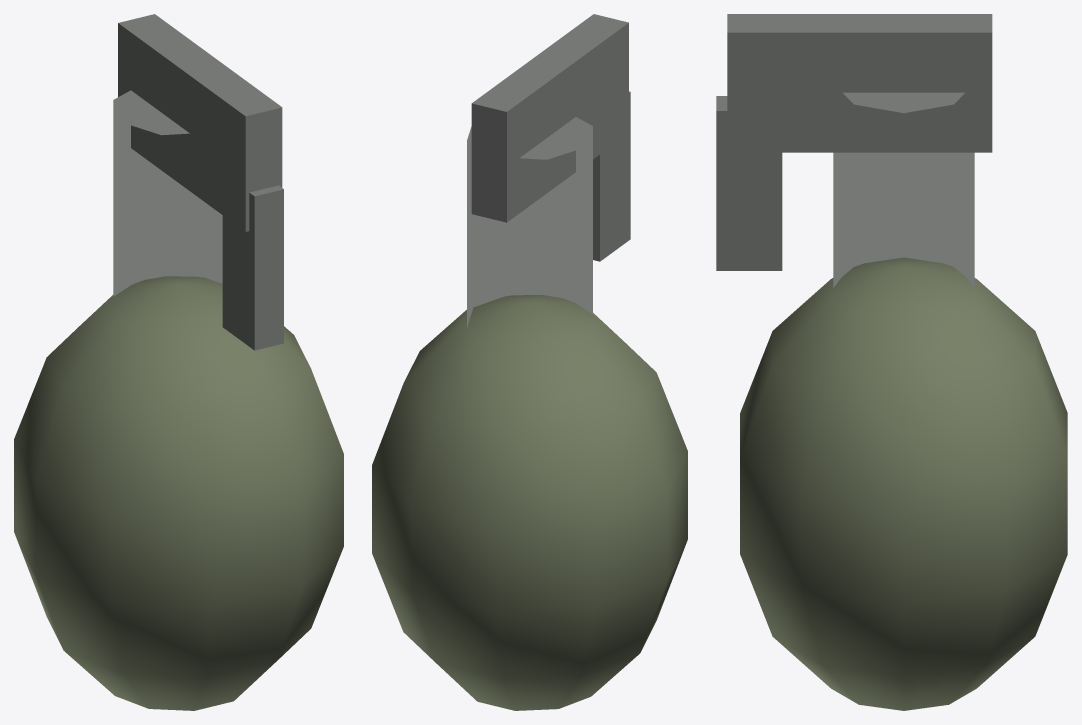
The model's file is w_rgd5.glb.
3 views of the same model, side by side, from view 1: azimuth 30°, elevation 25°; view 2: azimuth 150°, elevation 25°; view 3: azimuth 270°, elevation 25° (orthographic). The views are drawn at different scales.
Parts seen in each view (by area): view 1: body; view 2: body; view 3: body.
Part boxes in pixels (bbox=[...]): body: bbox=[14, 14, 343, 710]; body: bbox=[372, 14, 687, 710]; body: bbox=[716, 14, 1067, 710].
Bounding box in the file's own units: 0.078 × 0.169 × 0.0796.
